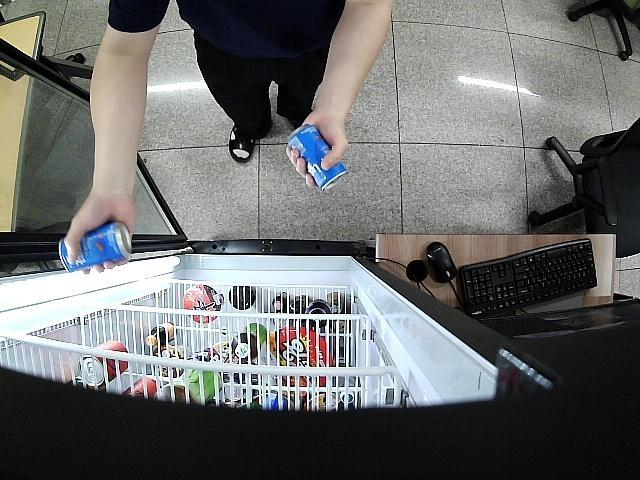15_letsbe: (288, 124, 347, 191), (59, 222, 130, 272)
